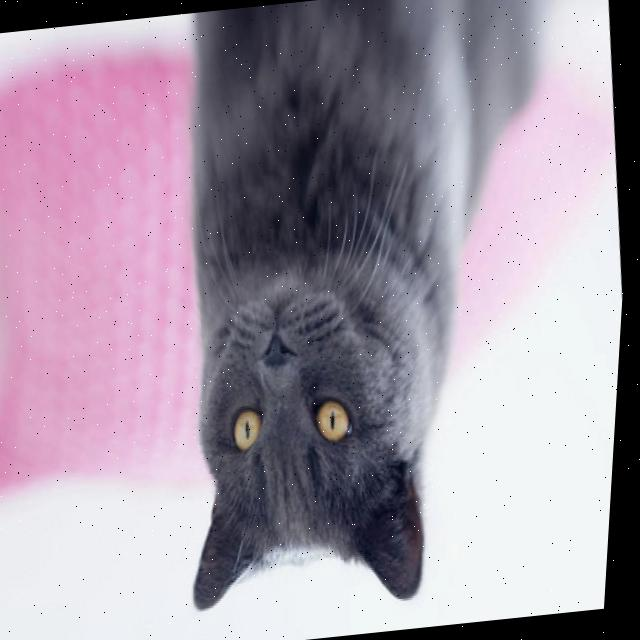British Shorthair: (133, 0, 598, 626)
